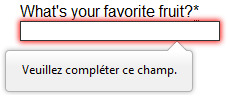error_field: (17, 18, 223, 45)
